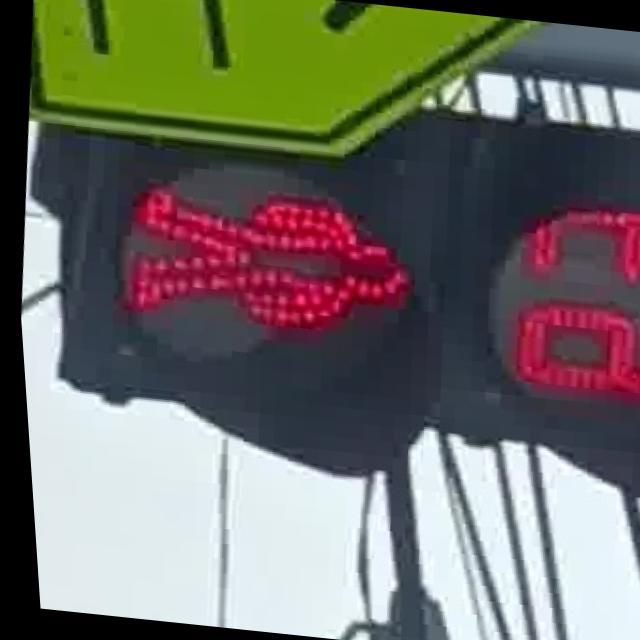red_light: (106, 168, 432, 380)
